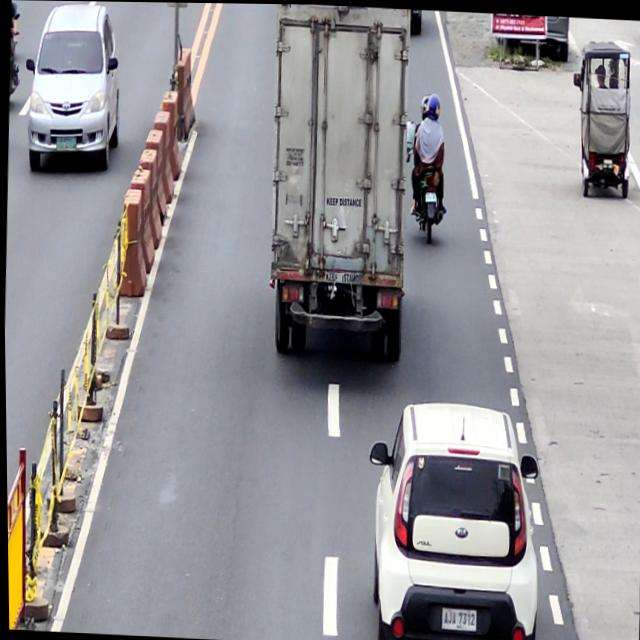Car: (359, 395, 543, 640)
E-bike: (569, 36, 635, 202)
License-Plate: (439, 607, 476, 630), (423, 190, 435, 200)
Motorcycle: (408, 125, 448, 247)
Truck: (262, 3, 416, 366)
